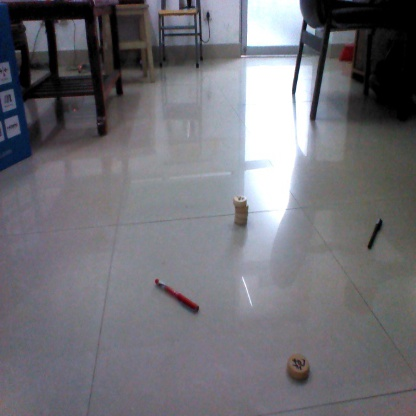chess: (282, 354, 313, 379), (234, 194, 251, 229)
pen: (152, 279, 203, 312), (367, 219, 385, 251)
